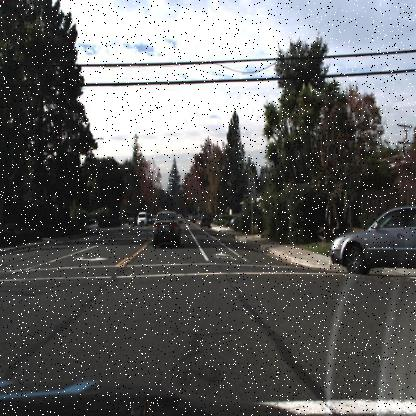car: (329, 202, 415, 276), (152, 210, 181, 247), (83, 218, 100, 237), (199, 211, 212, 229), (136, 210, 148, 227)
